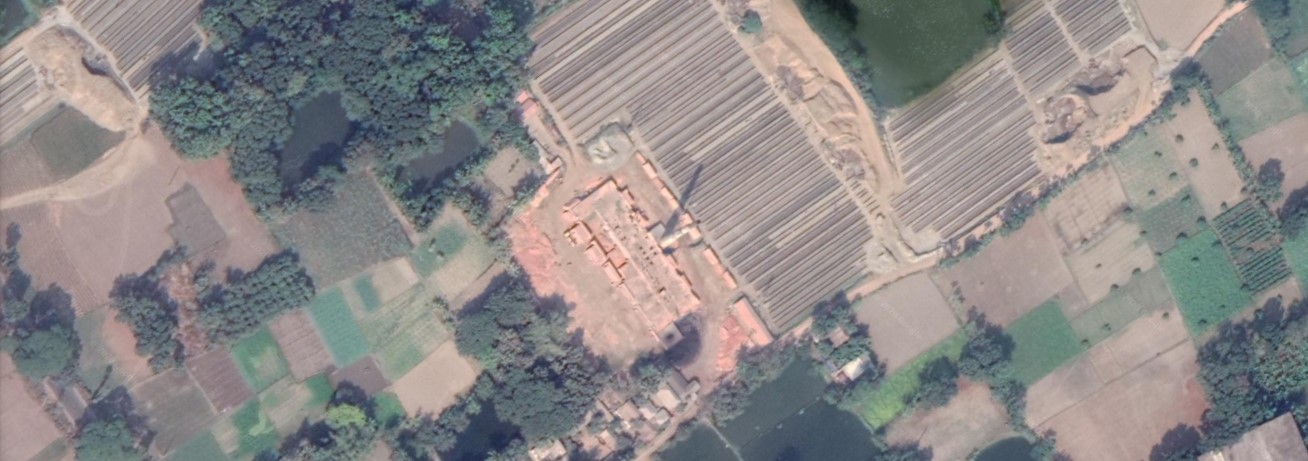kiln: (554, 168, 737, 316)
